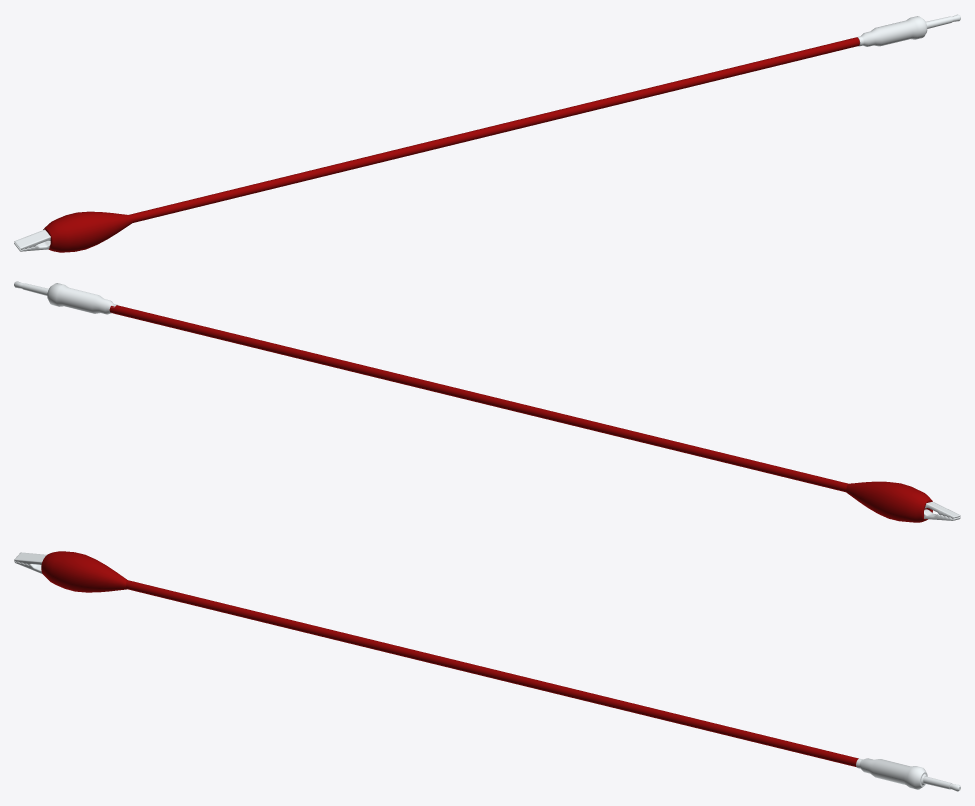
The model's file is CableHigh.fbx.
3 views of the same model, one above another, from view 1: azimuth 30°, elevation 25°; view 2: azimuth 150°, elevation 25°; view 3: azimuth 330°, elevation 25° (orthographic).
Parts seen in each view (by area): view 1: Cylinder026, Box001, Cylinder010, Box003; view 2: Cylinder026, Box001, Cylinder010; view 3: Cylinder026, Box001, Cylinder010.
Part boxes in pixels (x1,y1,x2,y2): Cylinder026: [129, 37, 859, 222]; Box001: [43, 211, 132, 252]; Cylinder010: [857, 14, 960, 46]; Box003: [14, 229, 50, 251]; Cylinder026: [109, 305, 847, 492]; Box001: [845, 481, 932, 522]; Cylinder010: [14, 281, 117, 314]; Cylinder026: [126, 580, 858, 766]; Box001: [41, 551, 127, 592]; Cylinder010: [856, 758, 960, 791].
Bounding box in the file's own units: 108 × 3.67 × 3.67.
